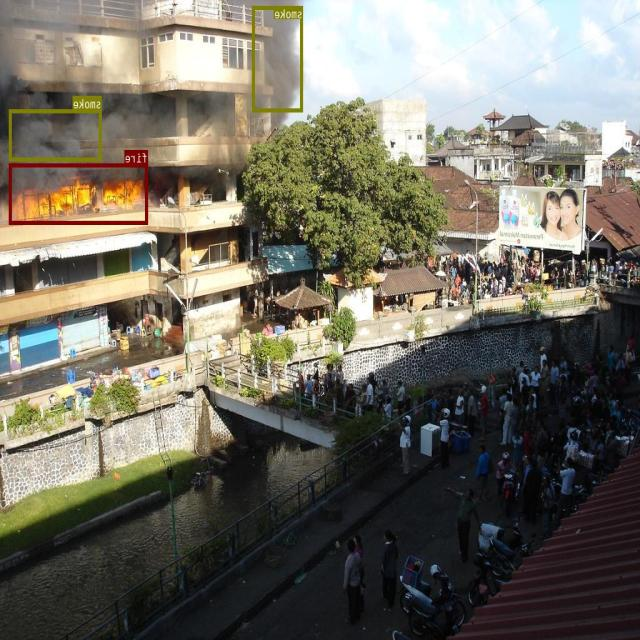fire: (10, 163, 148, 224)
smoke: (253, 6, 303, 111), (10, 109, 102, 160)
